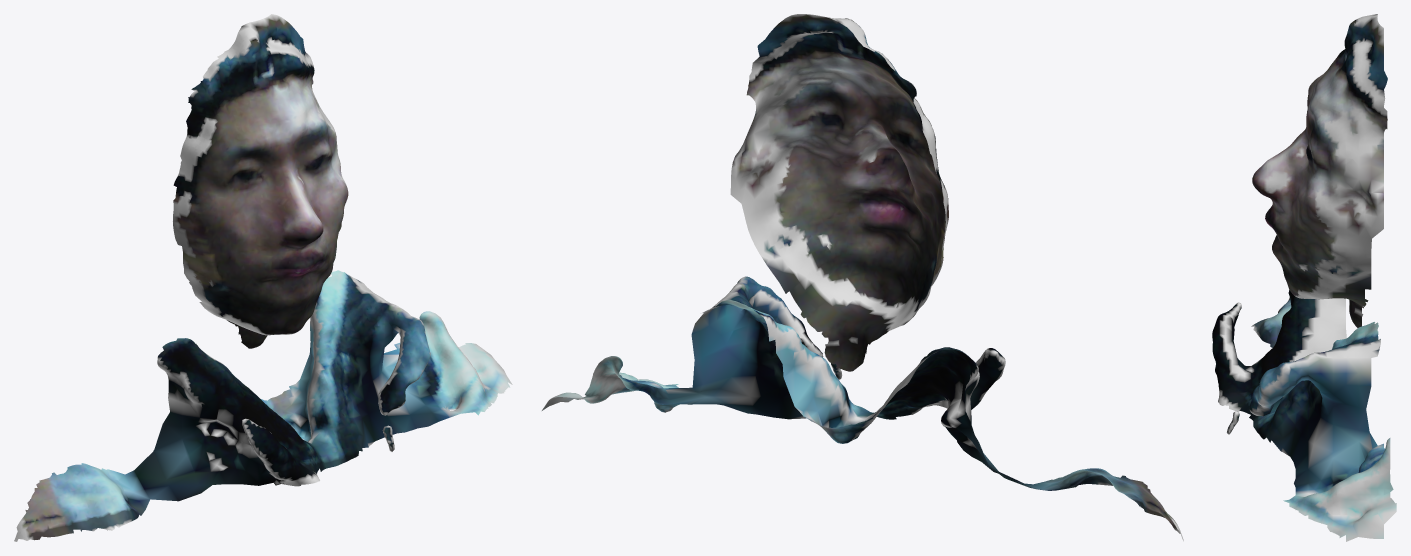
The model's file is dongho.obj.
The picture shows the model from 3 angles, left to right: view 1: azimuth 30°, elevation 25°; view 2: azimuth 150°, elevation 25°; view 3: azimuth 270°, elevation 25°; orthographic projection. The views are drawn at different scales.
Size of the model in its own units: 1.06 by 0.8175 by 0.3266.
